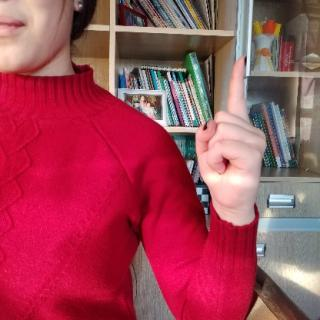RAA: (188, 54, 270, 220)
